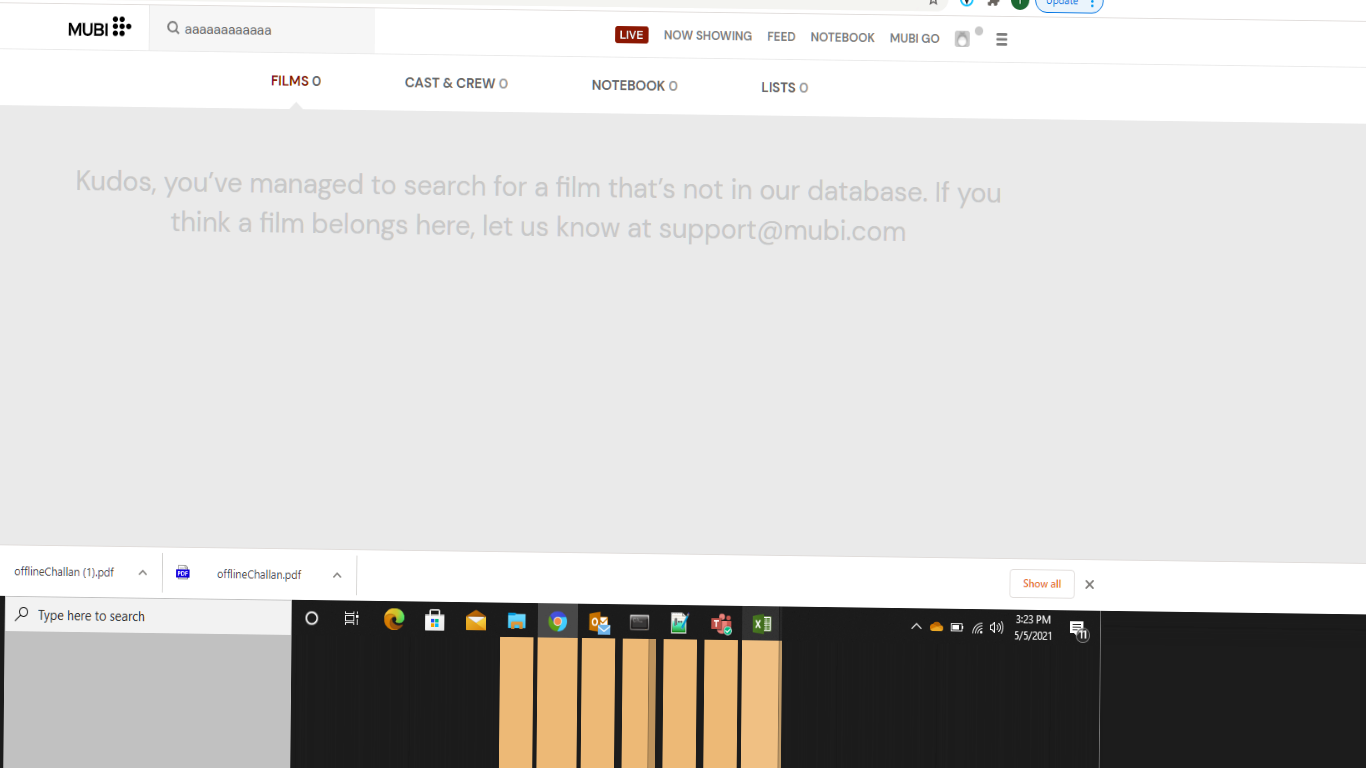noresultsfound: (63, 135, 1090, 270)
profileicon: (941, 16, 986, 53)
searchicon: (149, 9, 188, 48)
searchtextbox: (142, 4, 381, 46)
